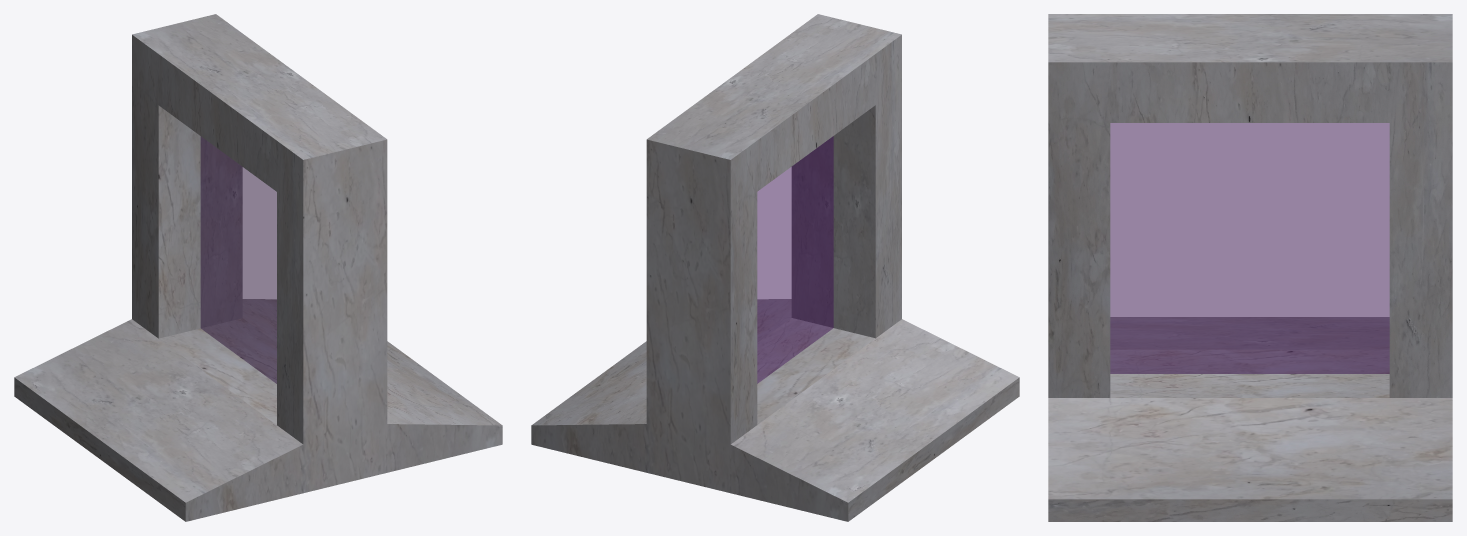
Rendered from Portal2025.glb.
3 views of the same model, side by side, from view 1: azimuth 30°, elevation 25°; view 2: azimuth 150°, elevation 25°; view 3: azimuth 270°, elevation 25° (orthographic). The views are drawn at different scales.
Parts seen in each view (by area): view 1: Portal; view 2: Portal; view 3: Portal.
Boxes of the visible parts, box(x1,y1,x2,y2) form: Portal: box(14, 14, 502, 521); Portal: box(531, 14, 1019, 521); Portal: box(1048, 14, 1452, 521).
Size of the model in its own units: 1.99 by 2 by 1.86.
Materials: 2 (1 with a texture image).
